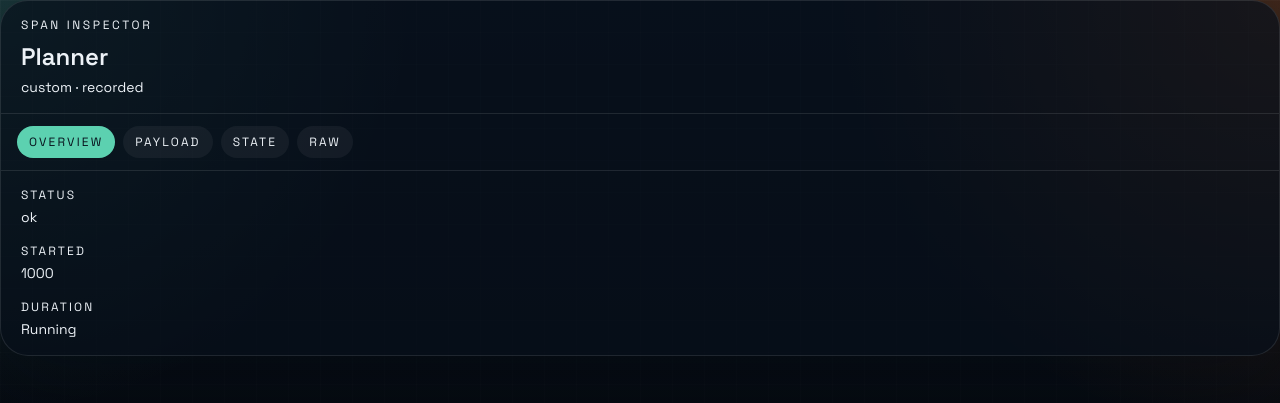
Test: SpanInspector › renders empty-state copy when optional panels are missing
Click the button "state": click(255, 142) [221,126,289,158]
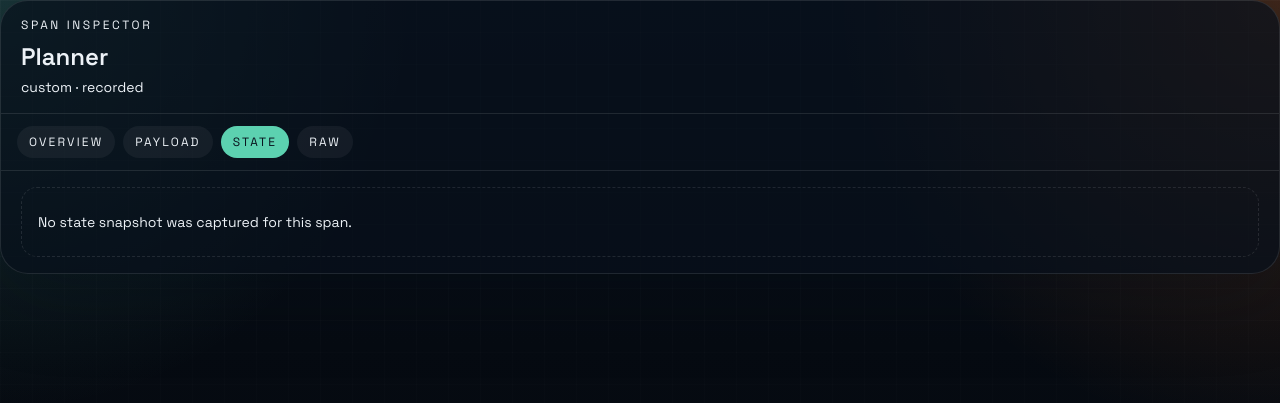
Check: the text "No state snapshot was captured for this span." is shown, box [21,187,1259,257]
Click the button "raw": click(325, 142) [297,126,353,158]
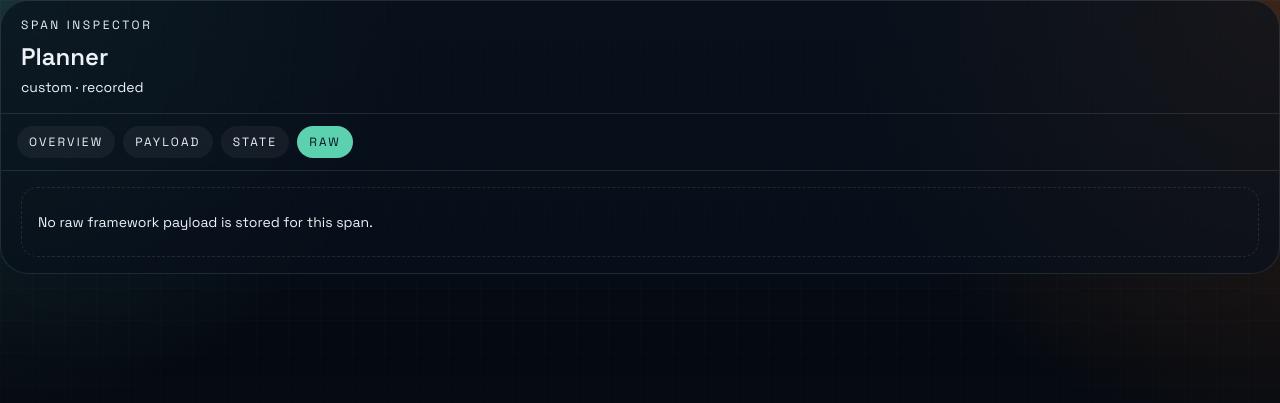
Check: the text "No raw framework payload is stored for this span." is shown, box [21,187,1259,257]
